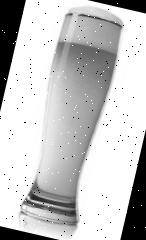glass: (17, 9, 128, 230)
